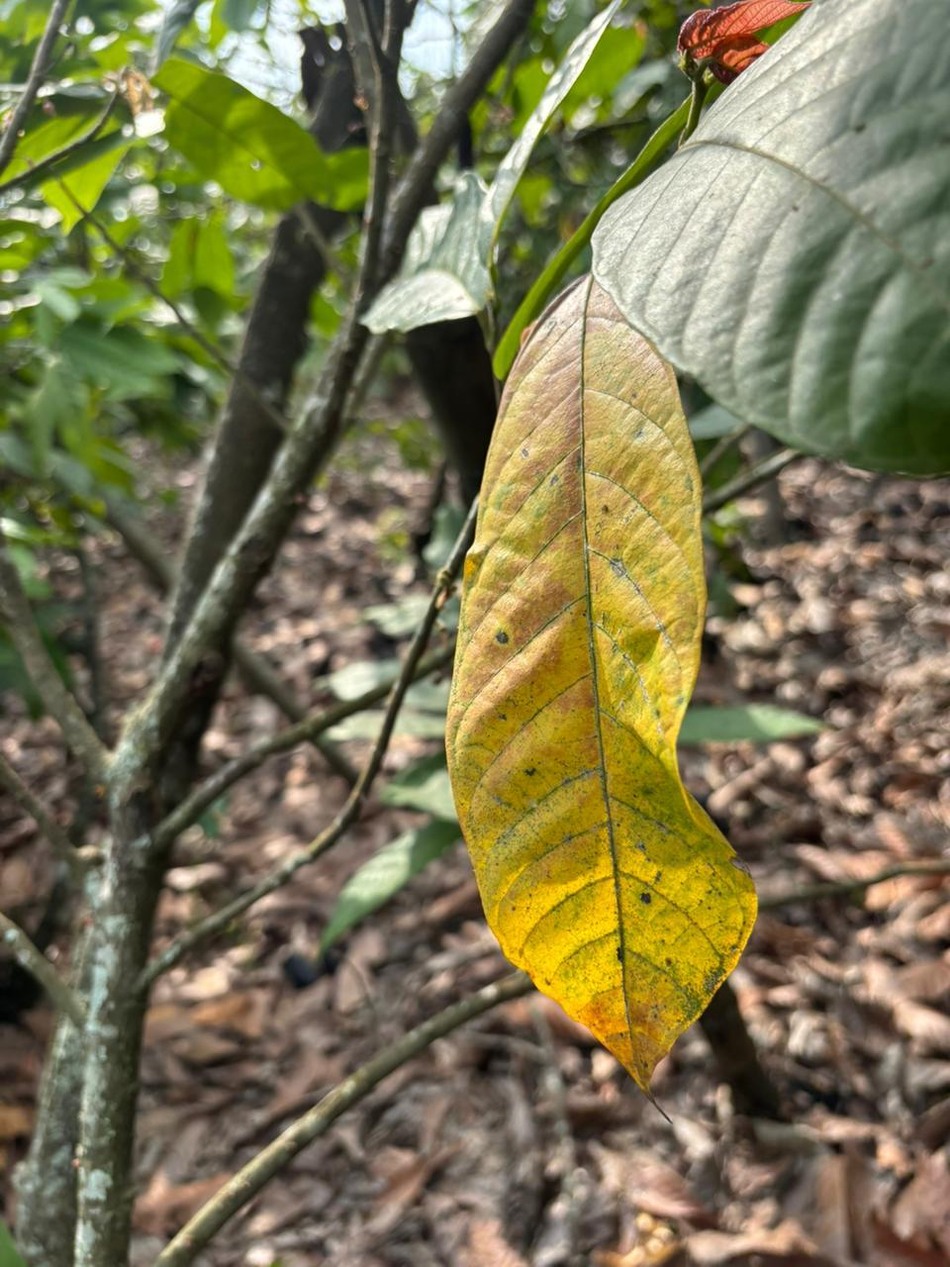deficienciia_fosforo: (446, 277, 755, 1092)
